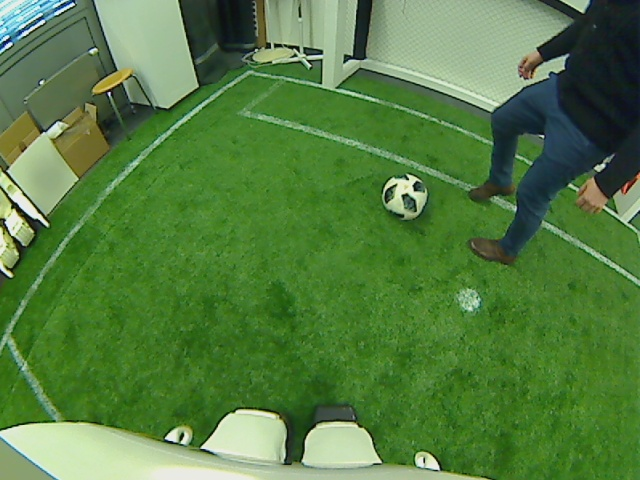ball: (380, 173, 426, 219)
